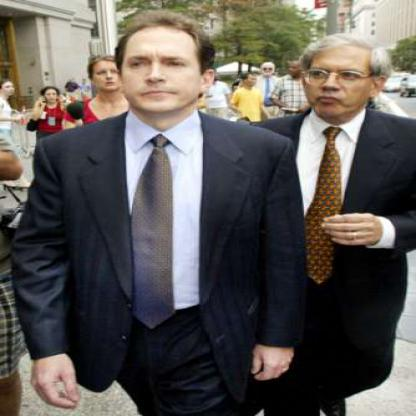face: (118, 18, 207, 114), (303, 40, 375, 116), (90, 57, 126, 93), (1, 81, 20, 99), (45, 88, 59, 106)
